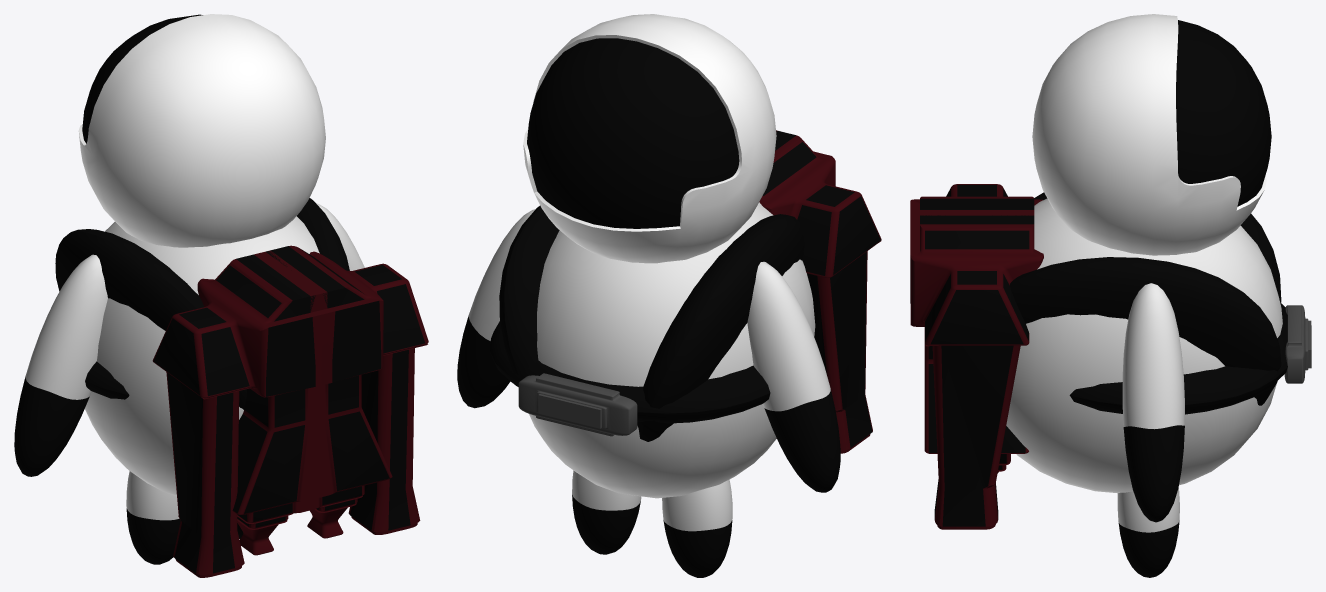
Rendered from Digi_astronaut_player7.glb.
3 renders of one model, left to right at view 1: azimuth 30°, elevation 25°; view 2: azimuth 150°, elevation 25°; view 3: azimuth 270°, elevation 25°, orthographic. The views are drawn at different scales.
Parts seen in each view (by area): view 1: Cube.007, Cube, Cube.002, Cube.005, Cube.008, Cube.004, Cube.001, Cube.010; view 2: Cube.002, Cube.001, Cube, Cube.008, Cube.005, Cube.007, Cube.004, Cube.010, Cube.009; view 3: Cube, Cube.007, Cube.002, Cube.008, Cube.001, Cube.005, Cube.010, Cube.004, Cube.009.
Part boxes in pixels (left/top/right/bottom): Cube.007: left=152, top=245, right=428, bottom=577; Cube: left=78, top=14, right=325, bottom=247; Cube.002: left=84, top=216, right=319, bottom=496; Cube.005: left=14, top=203, right=364, bottom=476; Cube.008: left=55, top=198, right=349, bottom=409; Cube.004: left=126, top=471, right=243, bottom=564; Cube.001: left=82, top=14, right=202, bottom=143; Cube.010: left=85, top=361, right=129, bottom=399; Cube.002: left=529, top=202, right=815, bottom=498; Cube.001: left=527, top=38, right=739, bottom=228; Cube: left=523, top=14, right=776, bottom=263; Cube.008: left=499, top=205, right=804, bottom=441; Cube.005: left=457, top=209, right=840, bottom=492; Cube.007: left=759, top=130, right=881, bottom=453; Cube.004: left=572, top=470, right=732, bottom=577; Cube.010: left=490, top=321, right=770, bottom=423; Cube.009: left=518, top=373, right=637, bottom=436; Cube: left=1032, top=14, right=1266, bottom=255; Cube.007: left=910, top=184, right=1043, bottom=529; Cube.002: left=1006, top=198, right=1282, bottom=493; Cube.008: left=1010, top=192, right=1281, bottom=405; Cube.001: left=1176, top=20, right=1271, bottom=206; Cube.005: left=1122, top=283, right=1184, bottom=522; Cube.010: left=1069, top=303, right=1287, bottom=414; Cube.004: left=1117, top=488, right=1179, bottom=577; Cube.009: left=1284, top=305, right=1311, bottom=383.
Size of the model in its own units: 2.94 by 4.02 by 2.77.
